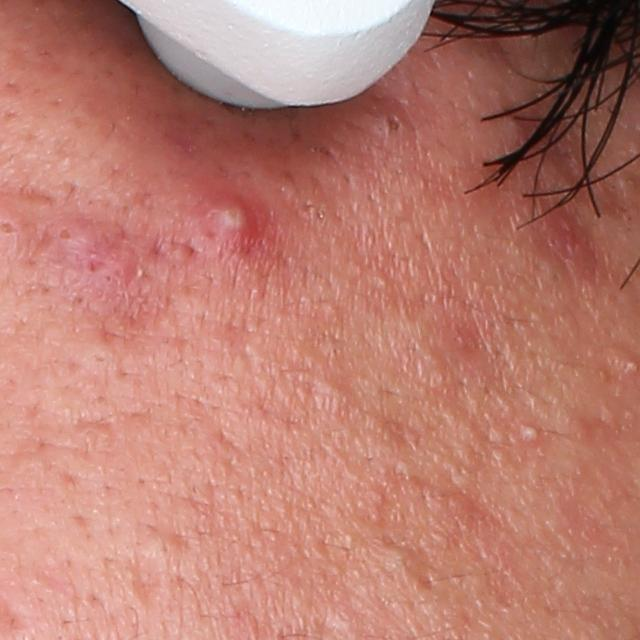atrophic_scar: (127, 560, 171, 607)
comedo: (374, 107, 408, 141)
pustule: (197, 192, 262, 252), (516, 419, 539, 447)
